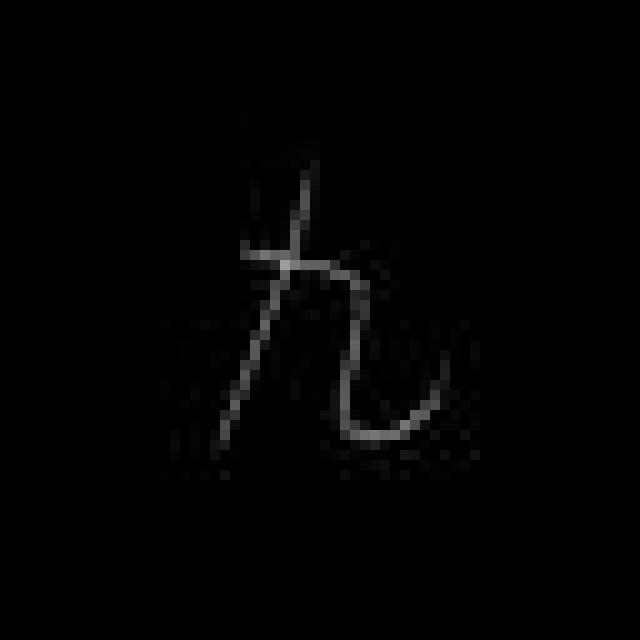9 -nine-: (206, 180, 450, 450)
